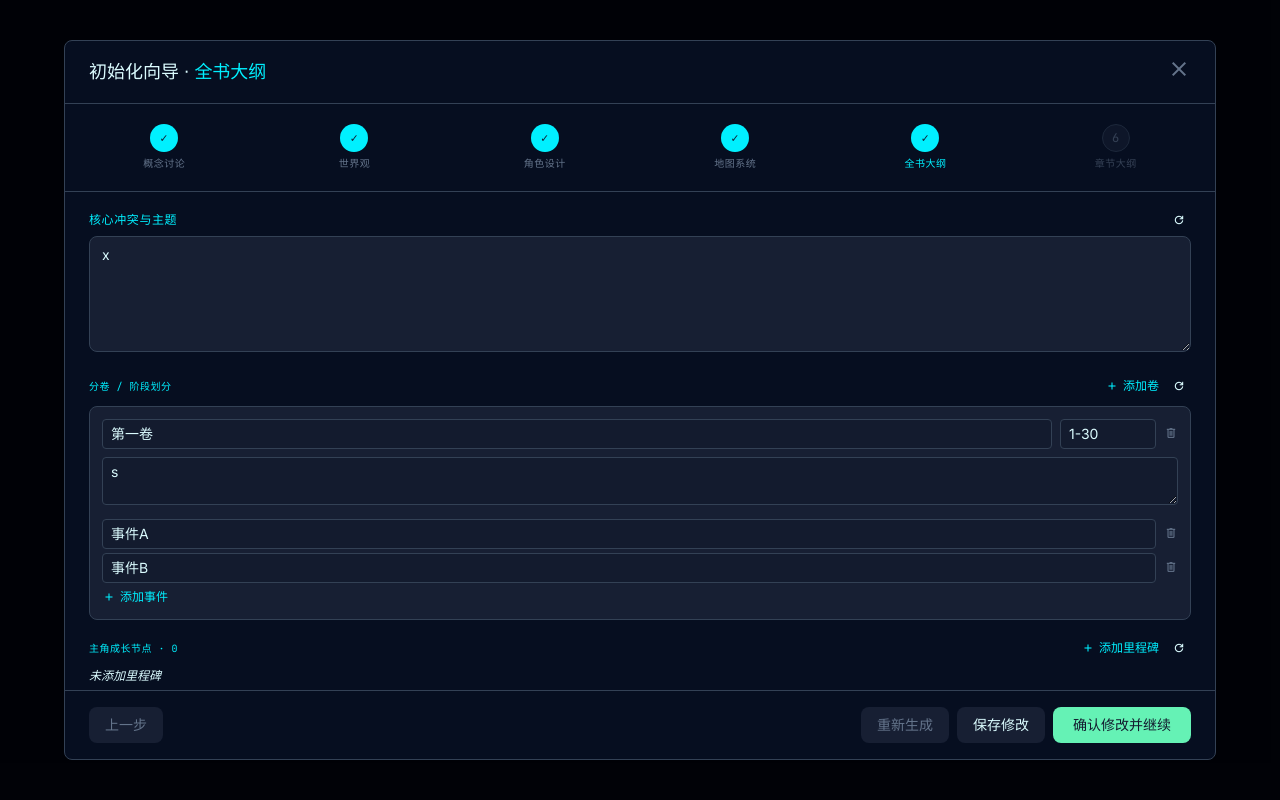
it: OutlineStep › removing a key_event deletes its row
The width and height of the screenshot is (1280, 800).
Step 1. Click the button with test id "volume-event-0-0-remove" → (1171, 534), box [1164,522,1178,546]
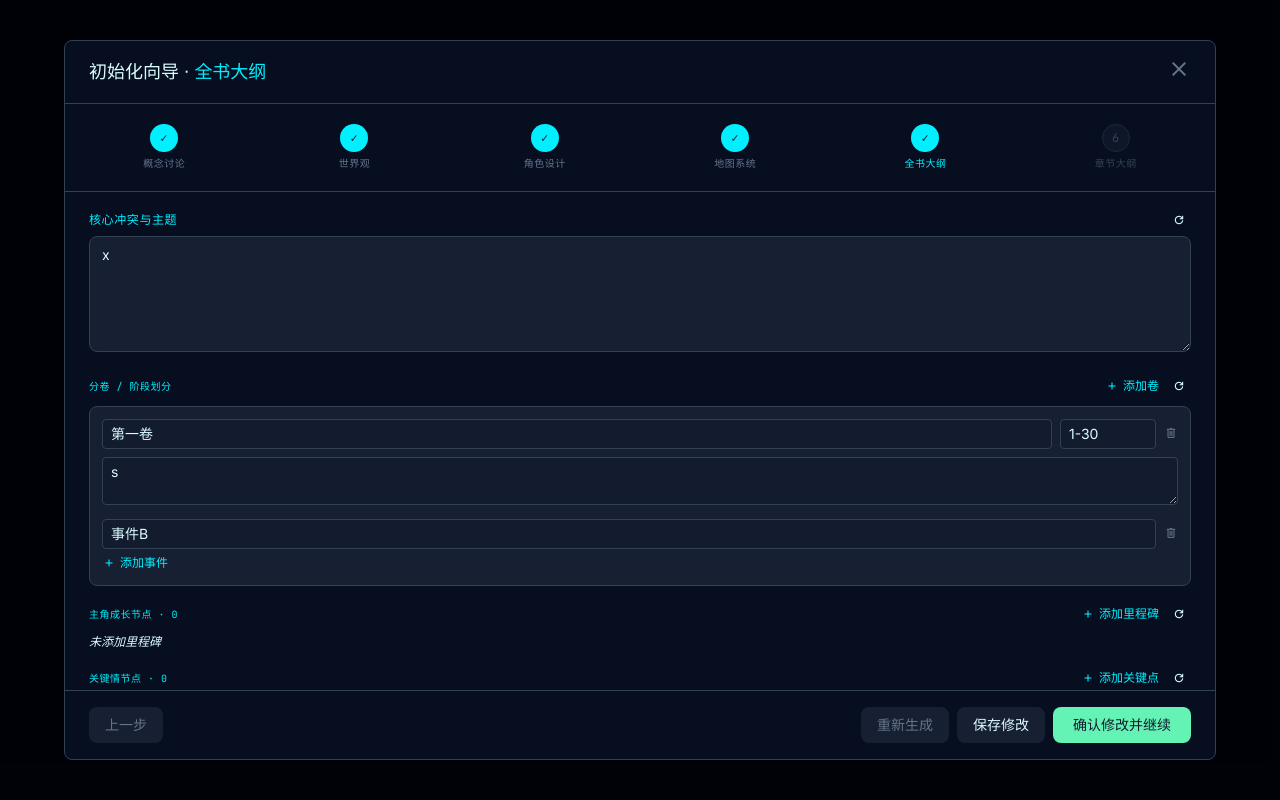
Expected: the field with test id "volume-event-0-" holds "事件B", [102,519,1156,549]
